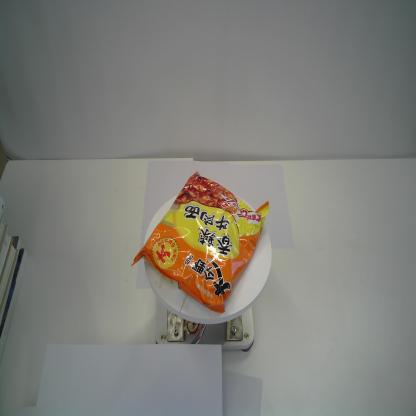Instant Noodles: (130, 170, 271, 315)
